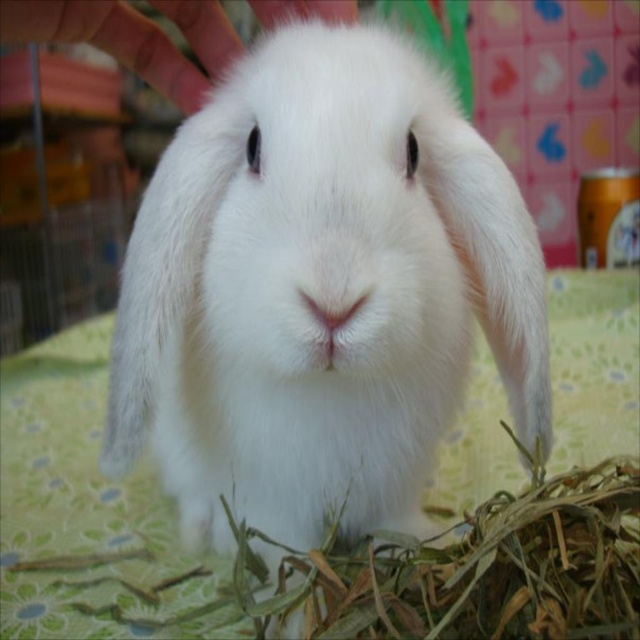Rabbit: (103, 4, 554, 640)
